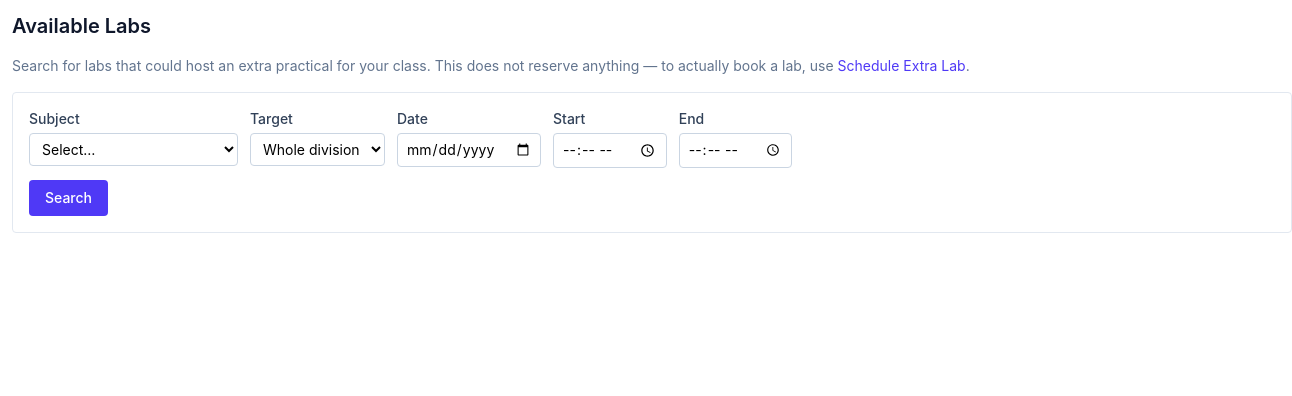
Test case: AvailableLabsPage - PART 61/62/63/64/65 (mandatory scenarios) › shows the no-valid-labs state and any backend-provided alternatives, never a fabricated one
Select "BDA — Big Data Analytics" in the dropdown labelled "Subject": (134, 150) [29, 133, 238, 166]
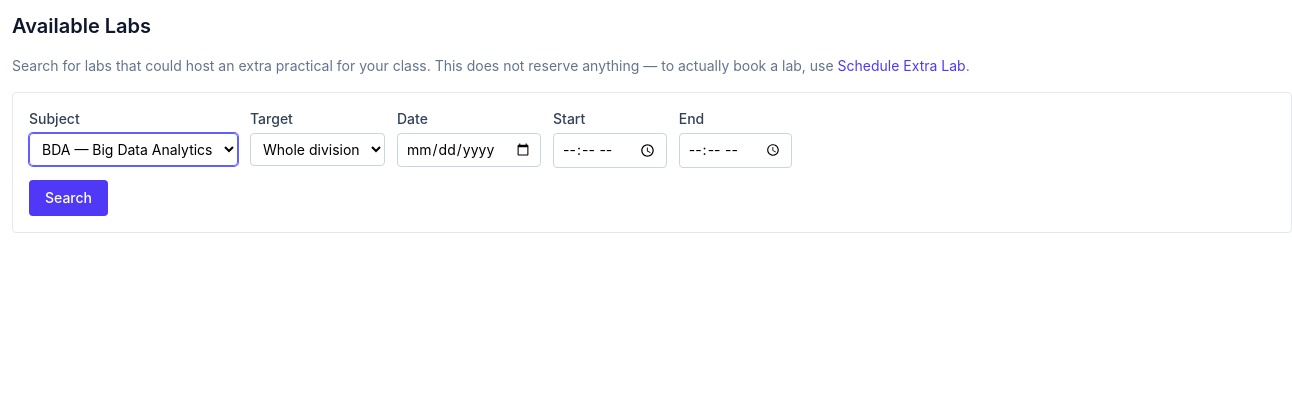
In the date field labelled "Date": (469, 150) [397, 133, 541, 167], type "2026-08-31"
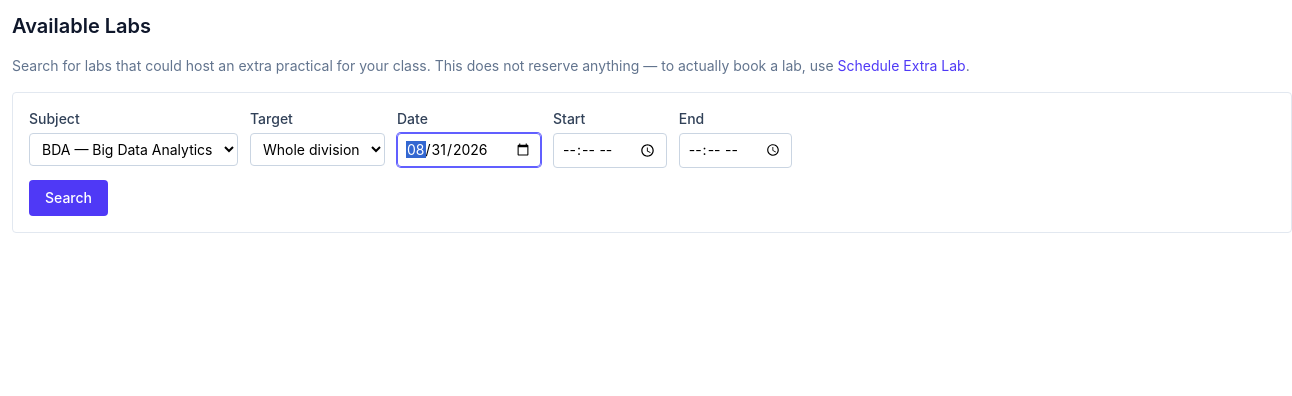
In the time field labelled "Start": (610, 150) [553, 133, 667, 168], type "09:00"
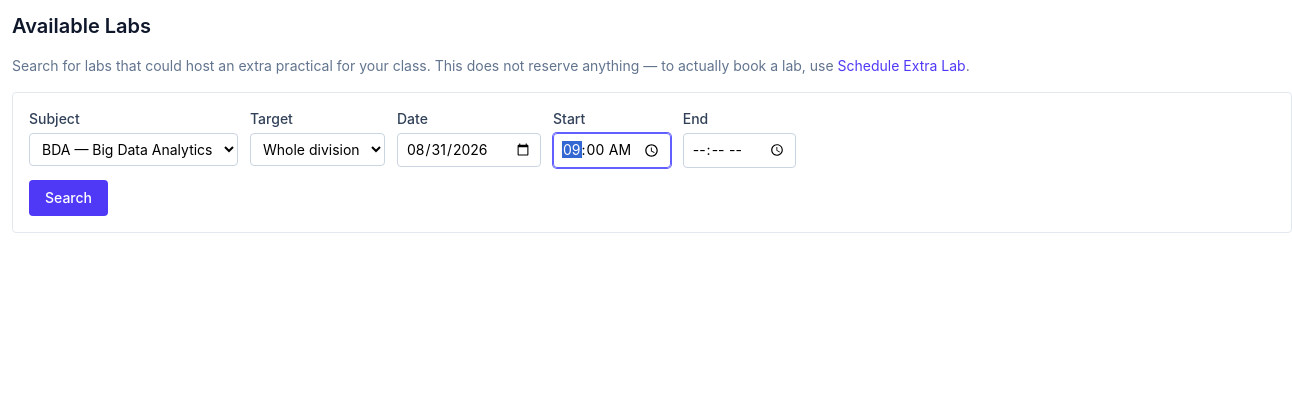
In the time field labelled "End": (740, 150) [683, 133, 796, 168], type "11:00"
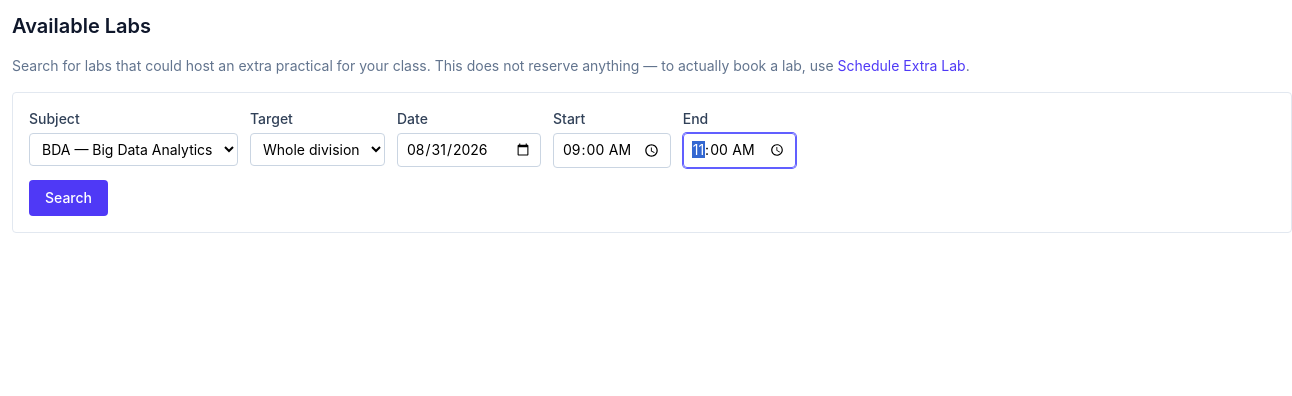
Click the button "Search": (68, 198) [29, 180, 108, 216]
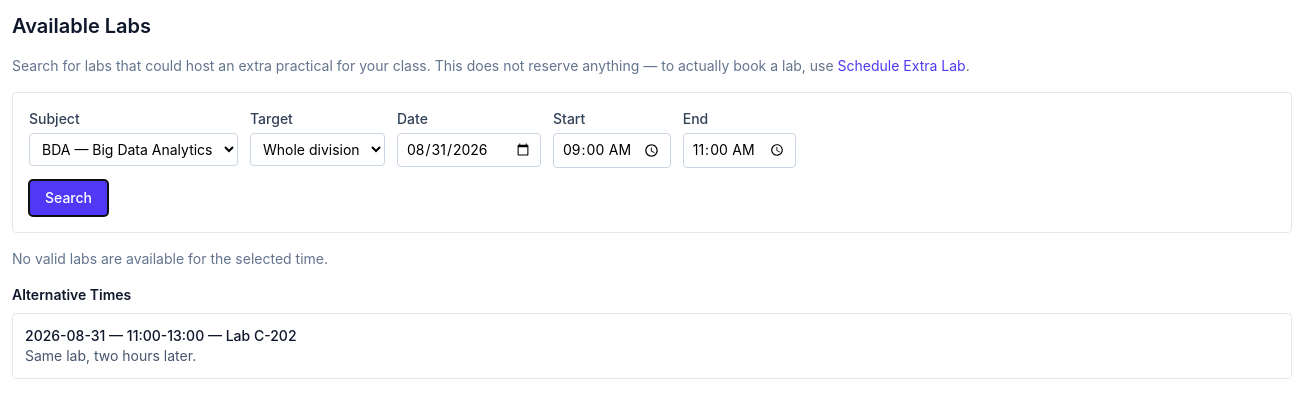
Expected: the text "No valid labs are available for the selected time." is shown, [12, 250, 328, 267]
Expected: the text "Same lab, two hours later." is shown, [25, 347, 196, 364]
